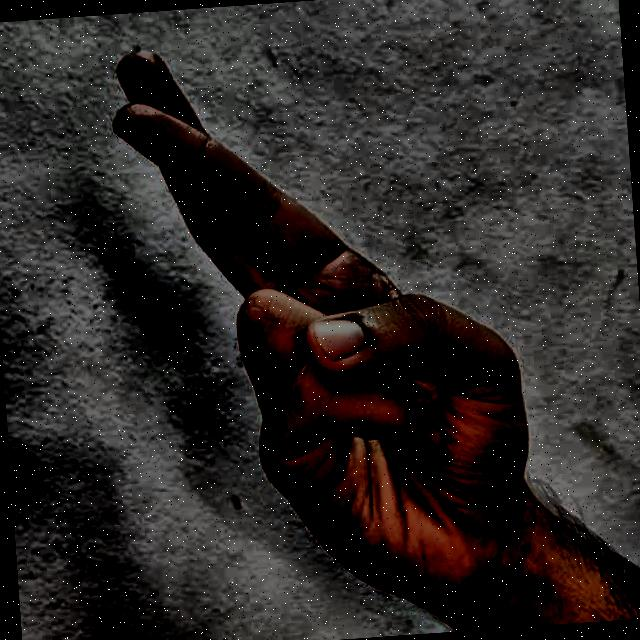Ra: (84, 10, 577, 640)
